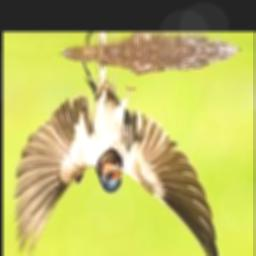Swallow: (15, 62, 220, 256)
